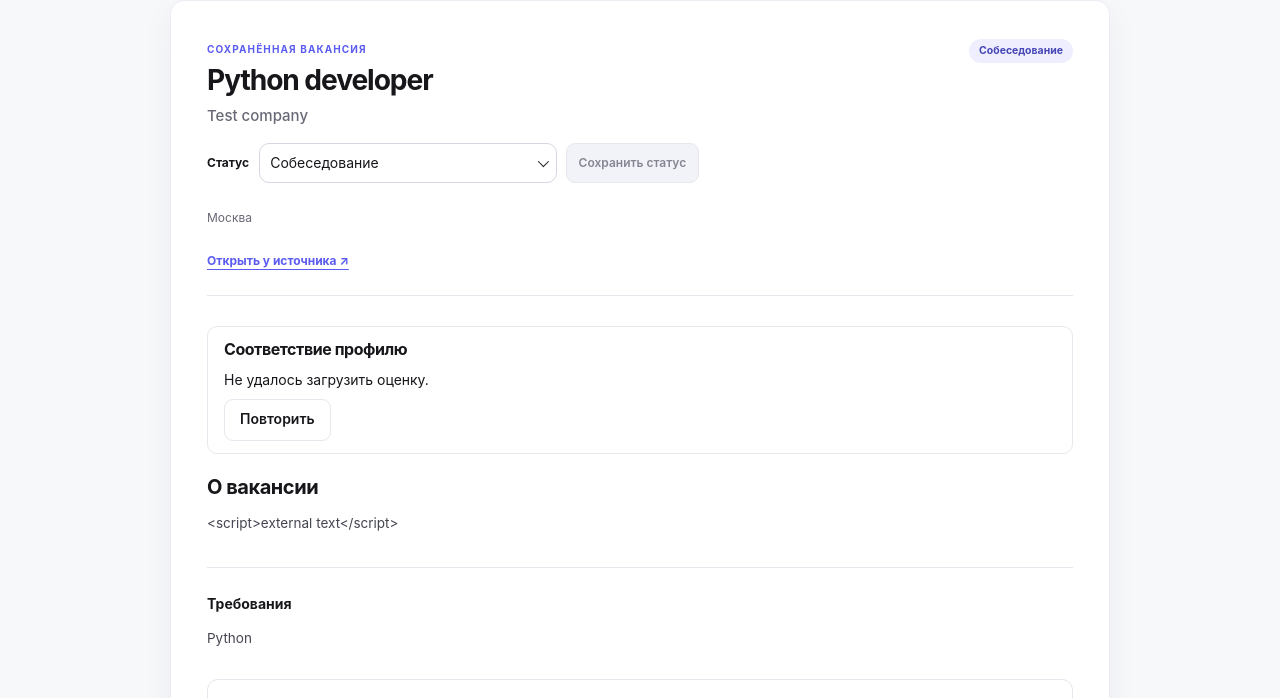
Scenario: keeps a single retry in the compact error state without displacing vacancy content
expect the message shows "Не удалось загрузить оценку.": met, box [224,370,429,388]
expect the button "Подробнее о соответствии" is not shown: met
Click the button "Повторить".
click(277, 420)  # box [224,399,331,441]
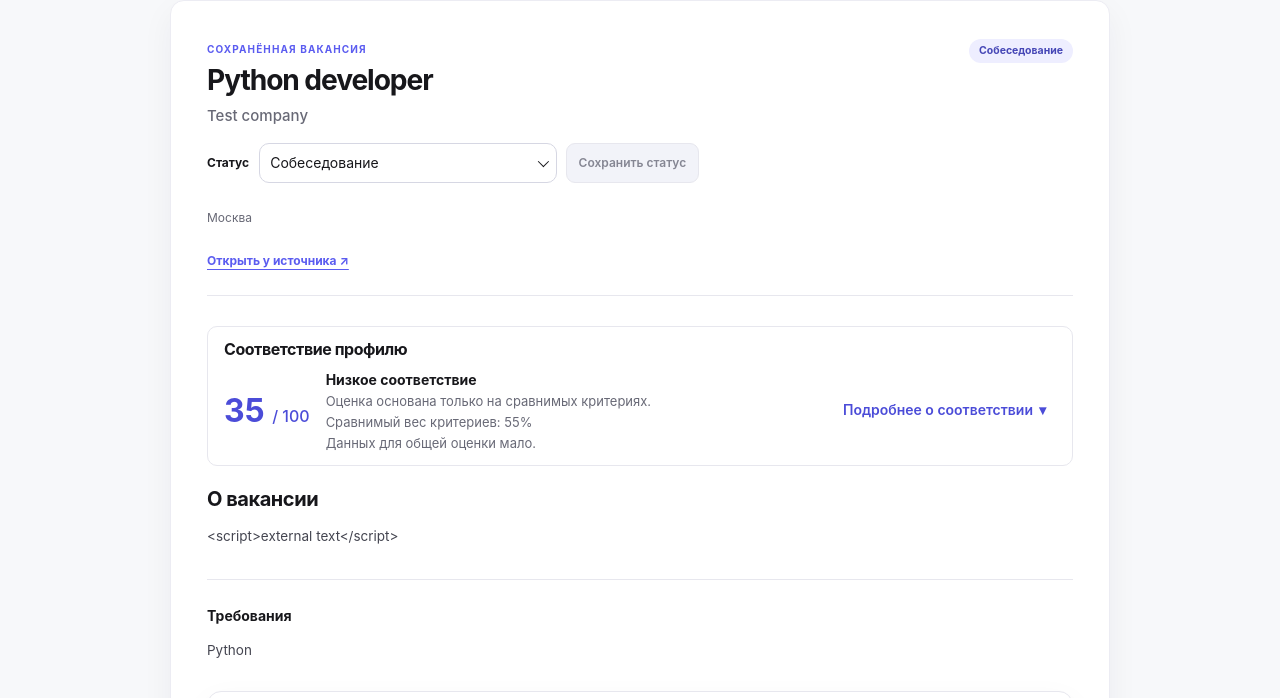
expect the element named "Оценка 35 из 100" is shown: met, box [224,391,310,431]
expect the button "Повторить" is gone: met
